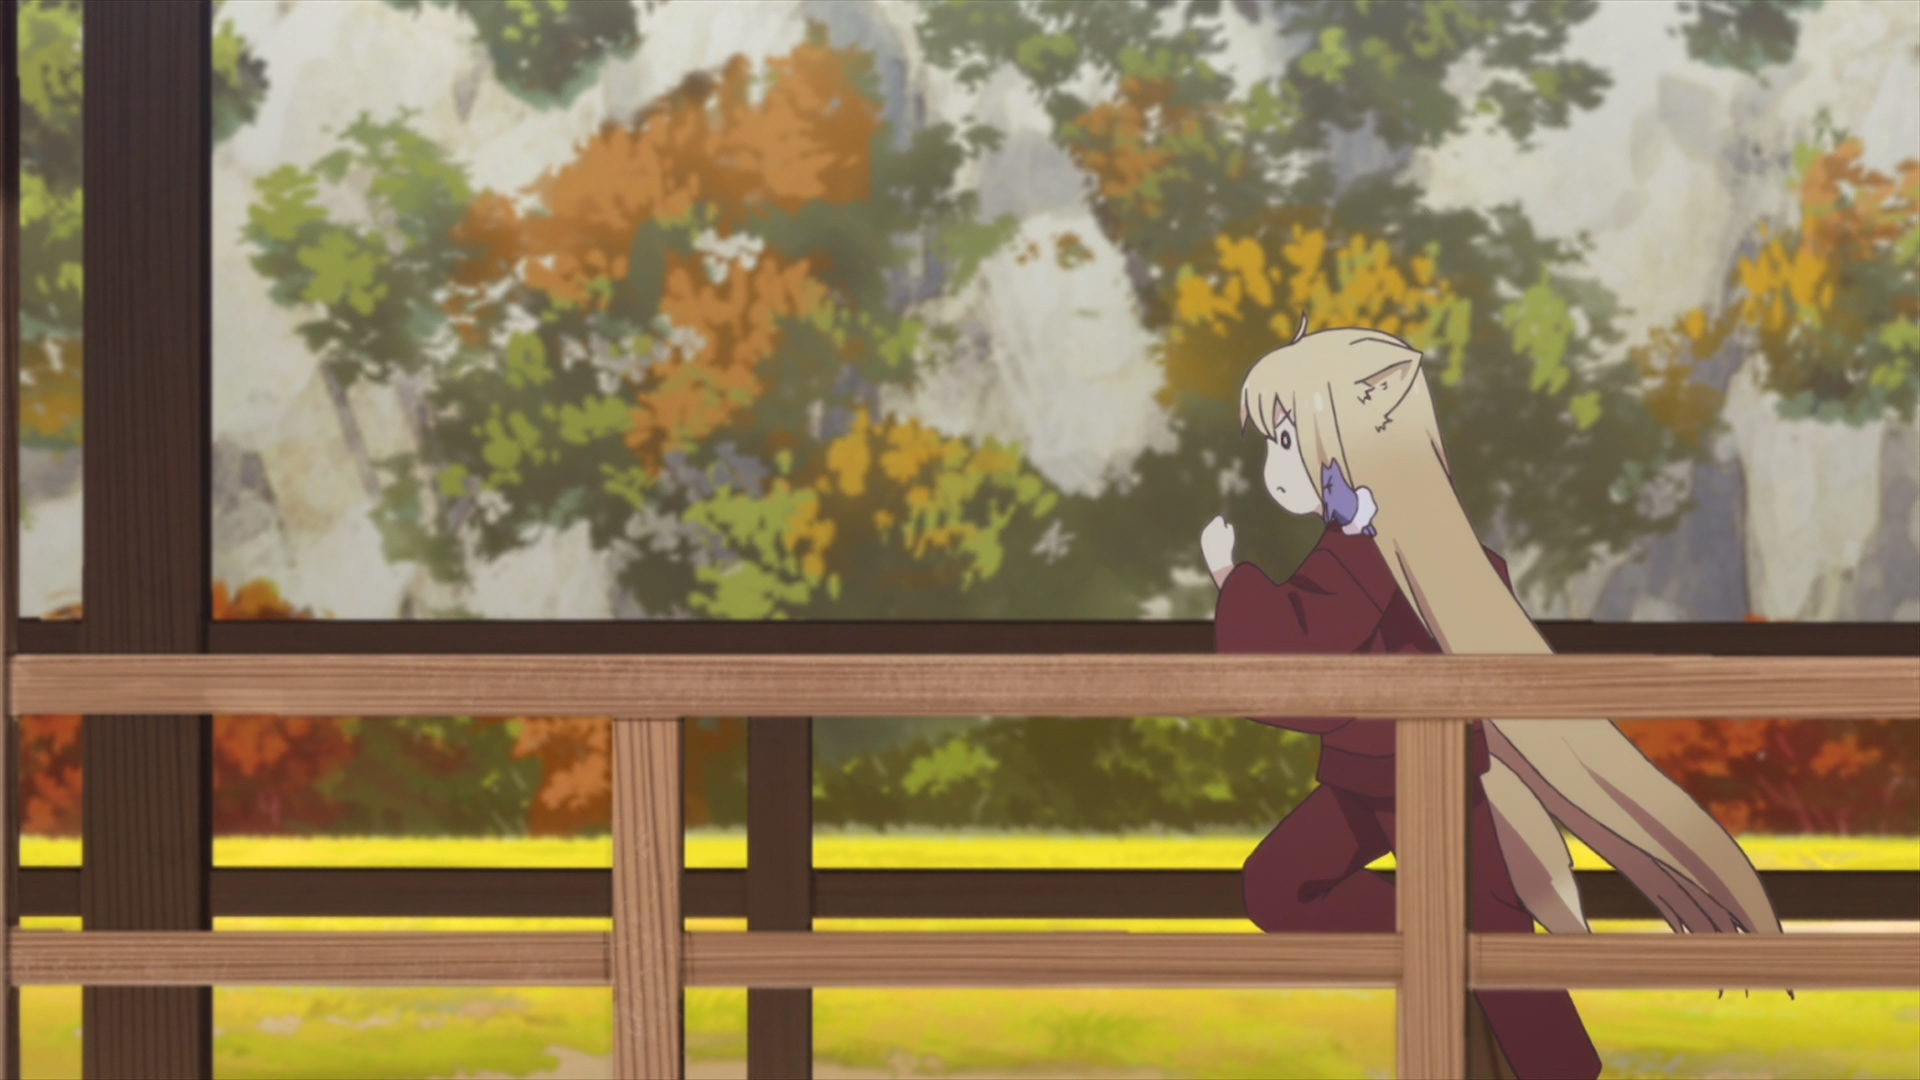柚: (1203, 313, 1793, 1080)
皋: (1315, 456, 1381, 541)
